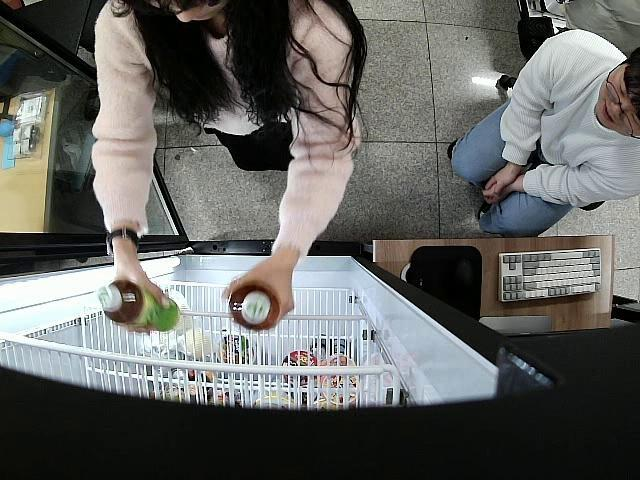19_17cha: (98, 279, 182, 332), (230, 286, 280, 334)
